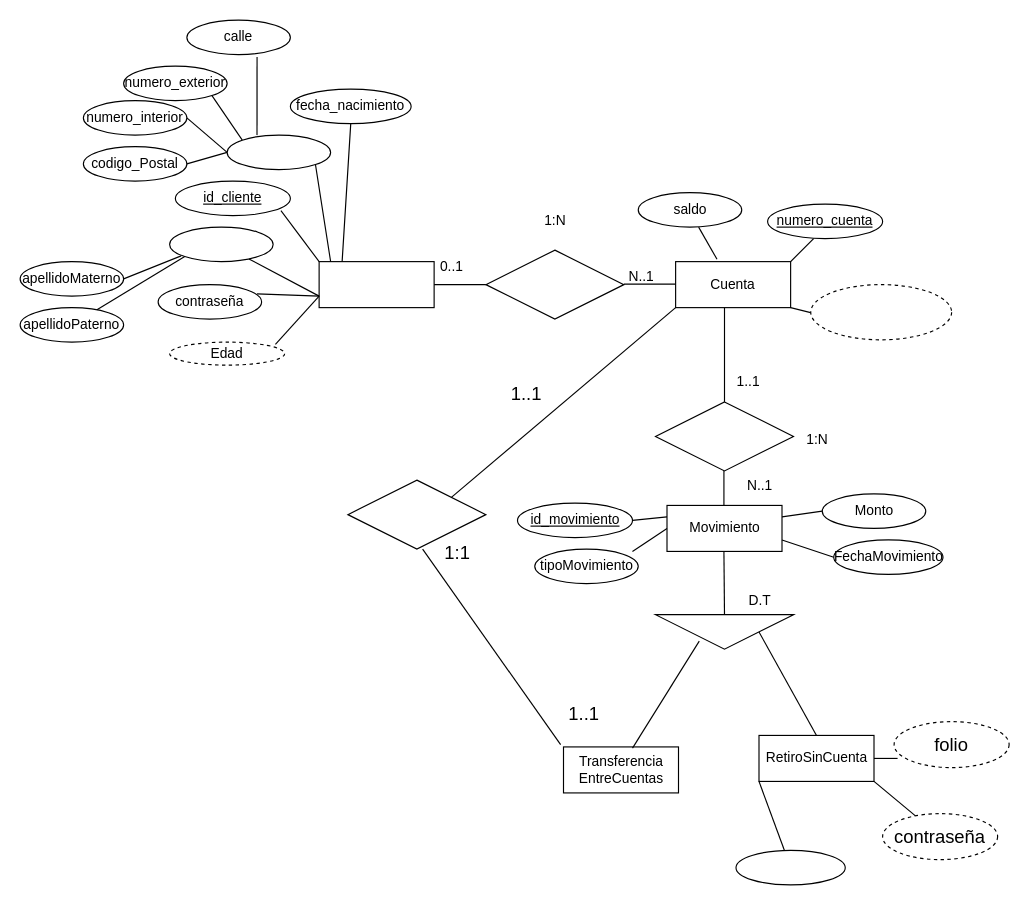
The diagram is 1029 pixels wide and 905 high, and some of its shapes have lost their labels. Here are the shapes that lost their labels. From the top down, the box of each, then its label:
(226, 134, 331, 170): direccion
(168, 226, 273, 262): Nombres
(318, 260, 434, 308): Cliente
(485, 249, 624, 319): Posee
(810, 283, 952, 340): fecha_apertura
(654, 401, 793, 471): Realiza
(347, 479, 486, 549): Necesita
(735, 849, 845, 885): estado
